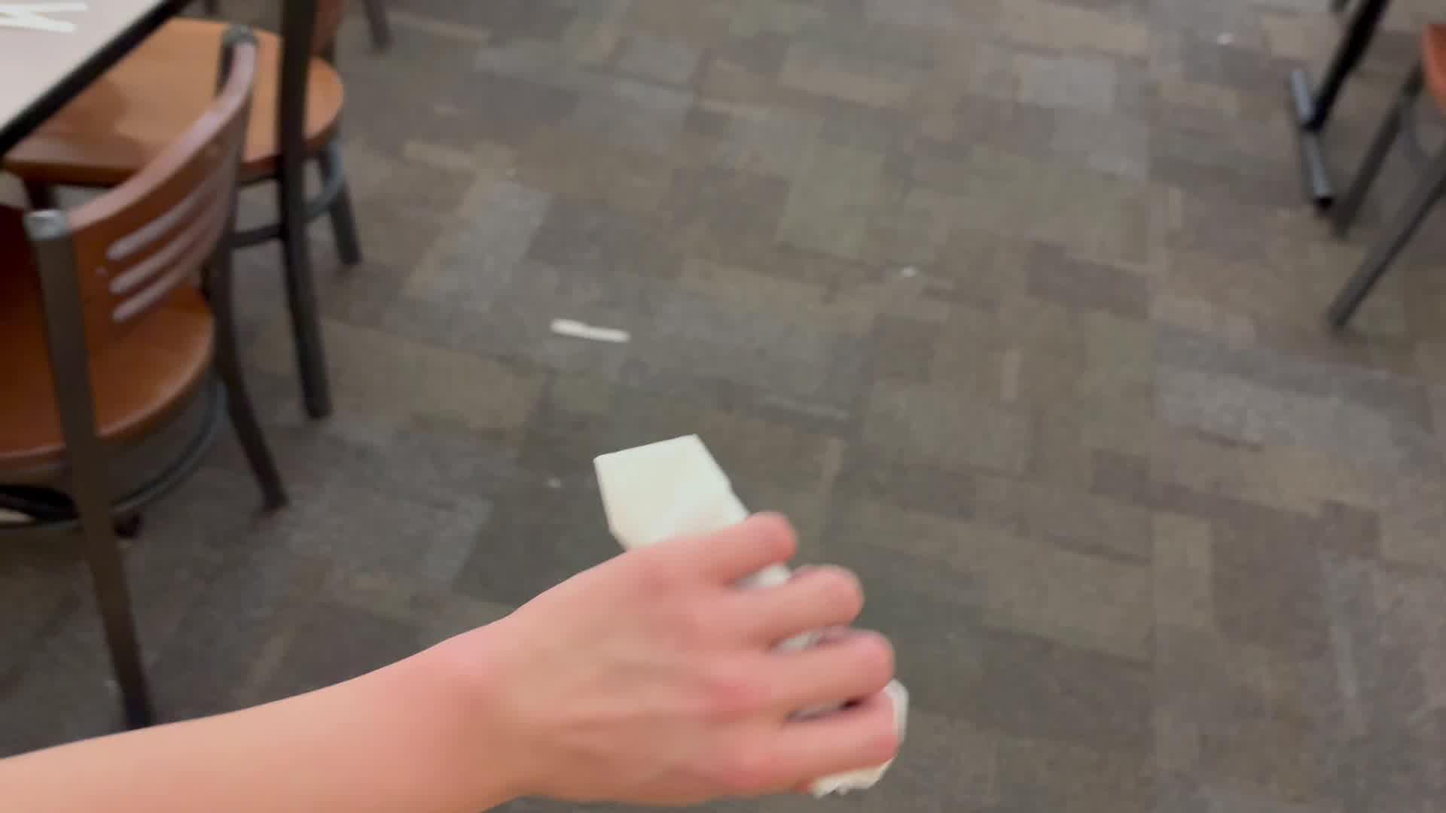napkin: (576, 414, 990, 797)
